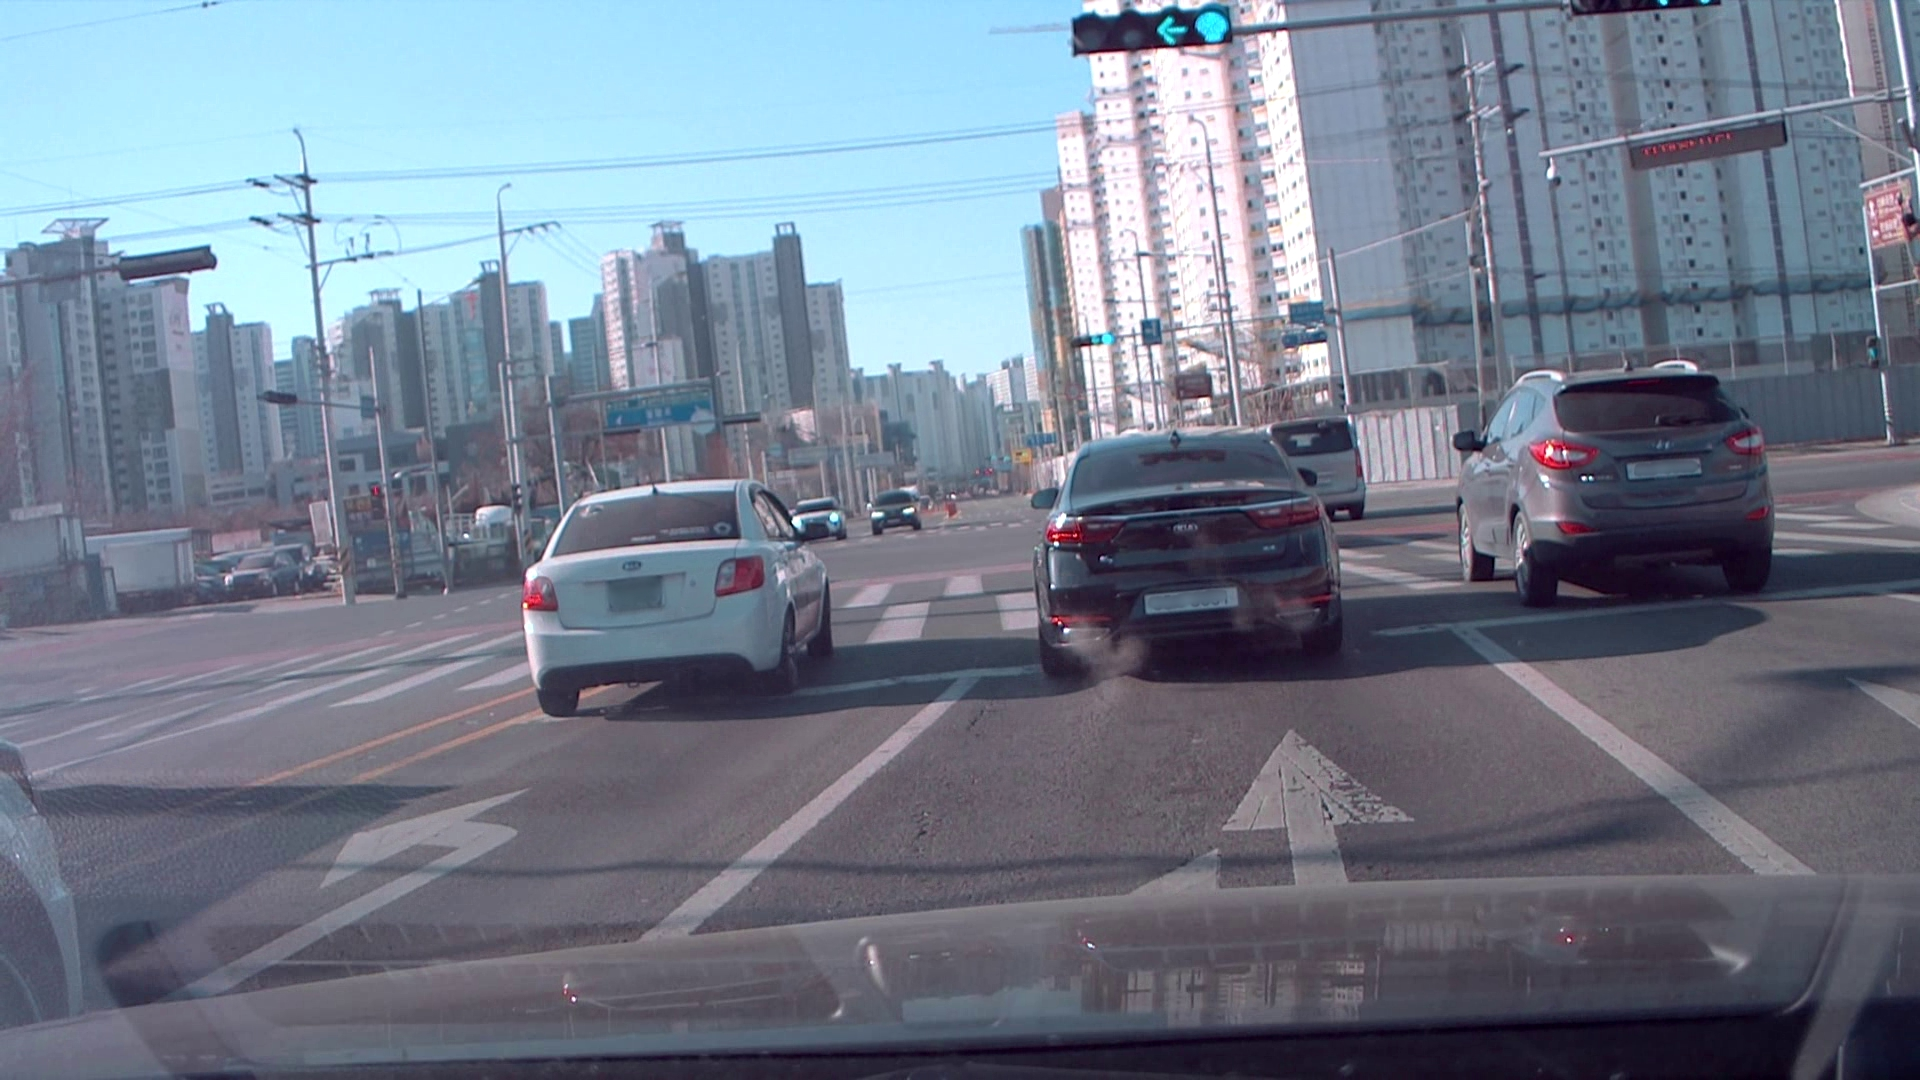trafficLight: (1069, 1, 1236, 65), (1065, 331, 1116, 351)
trafficSignRTG: (1138, 318, 1162, 353)
